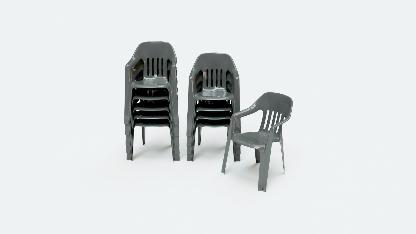bag: (121, 38, 181, 164)
chair: (217, 90, 296, 193), (122, 37, 181, 166), (186, 49, 244, 162)
